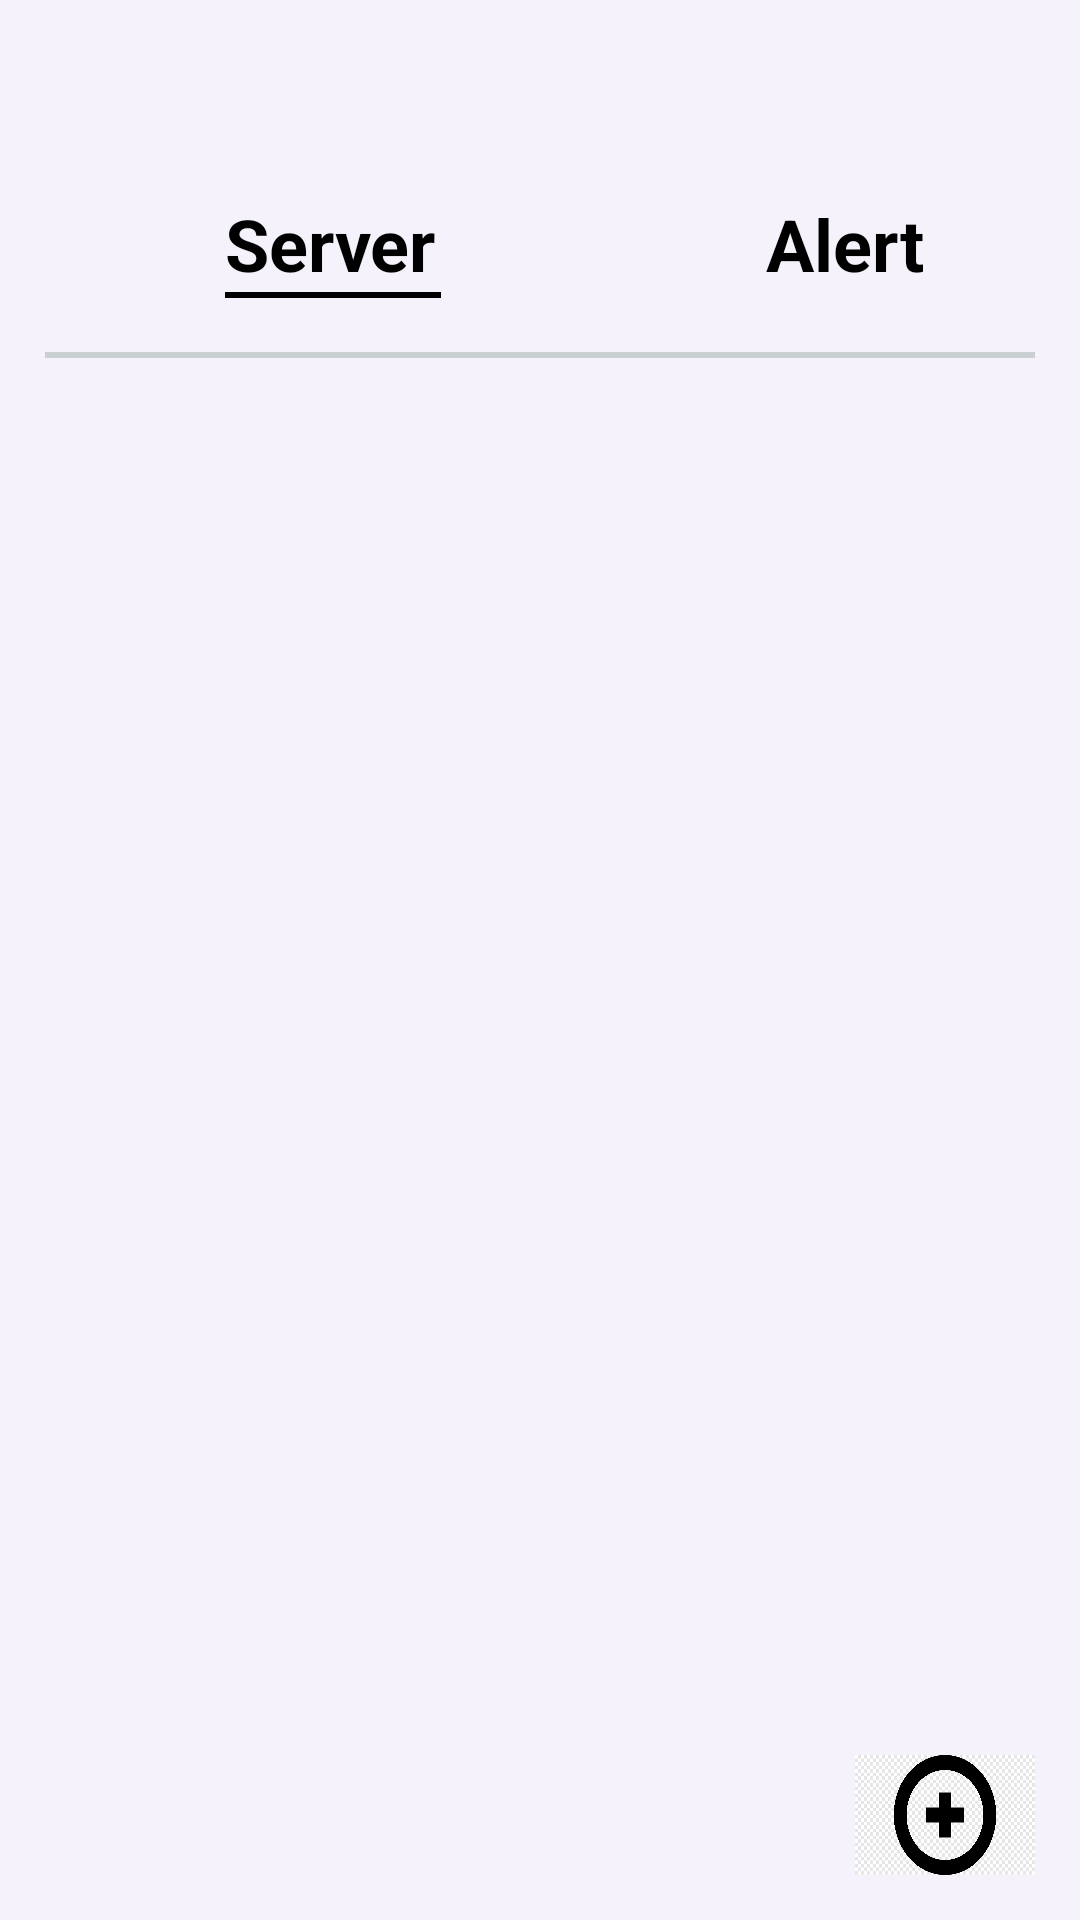

Point at icon controls on the screen. Image size 1080px×1920px, points as (x=x, y=y).
addtest: (x=945, y=1815)
